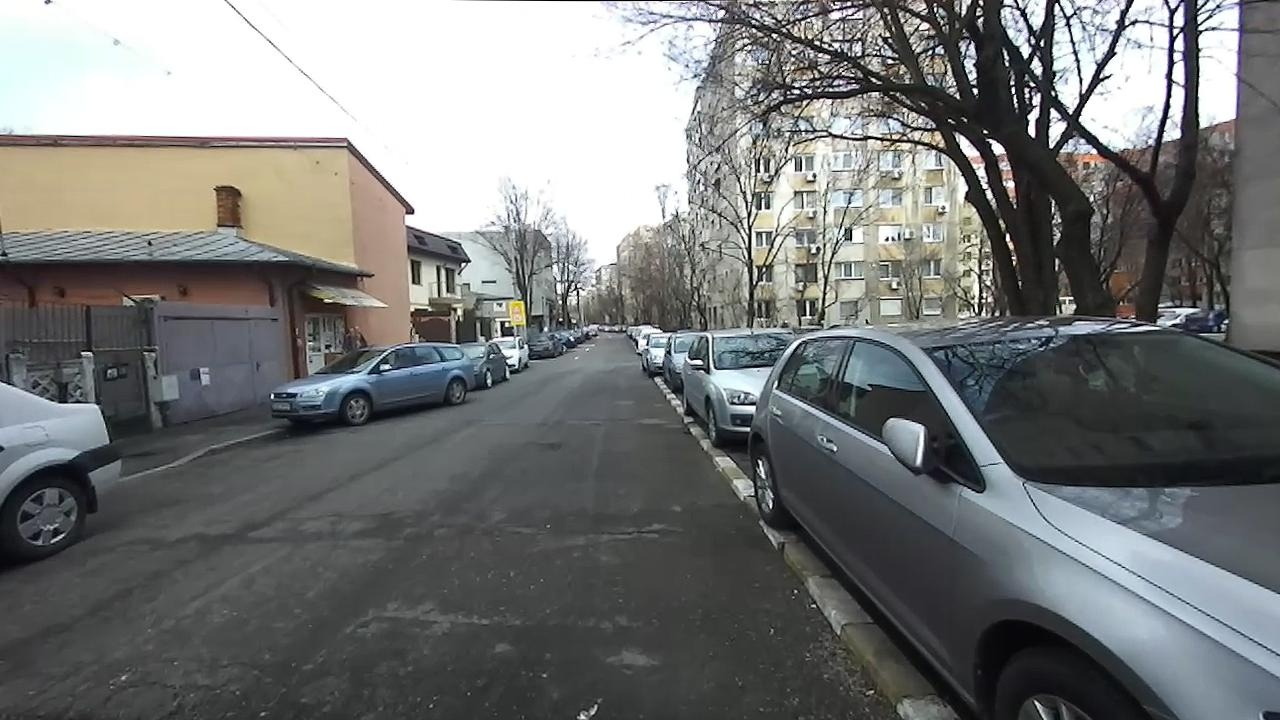pothole: (586, 518, 674, 549)
